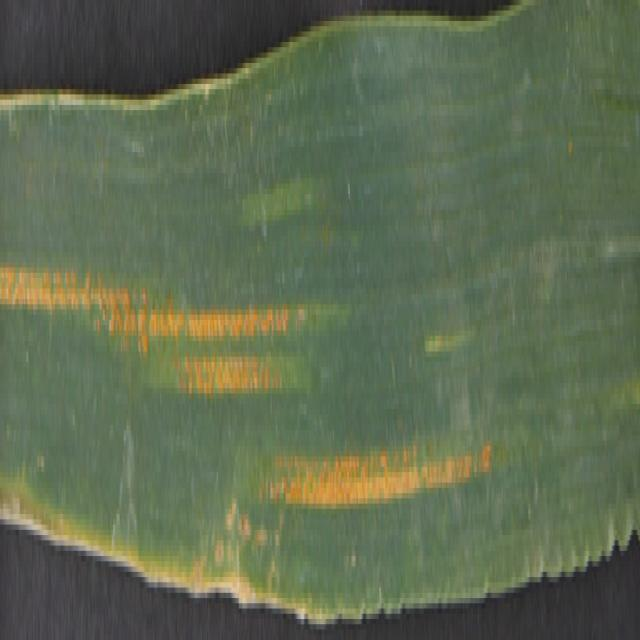leaf rust: (1, 131, 292, 394), (250, 409, 495, 530)
